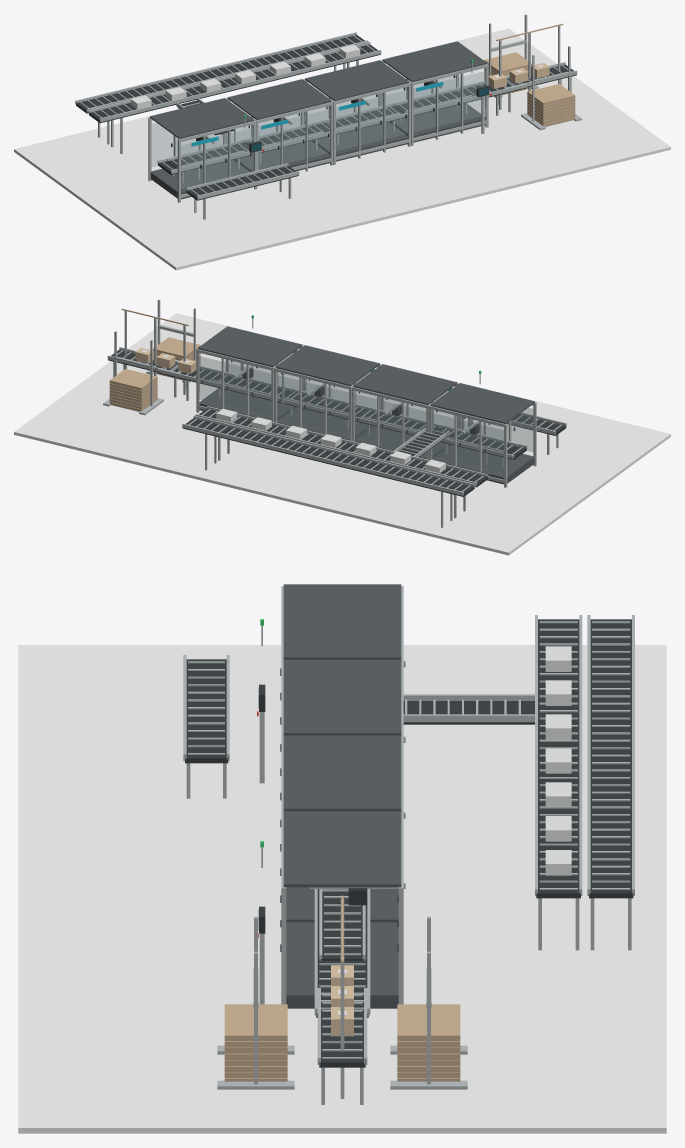
The picture shows the model from 3 angles, top to bottom: view 1: azimuth 30°, elevation 25°; view 2: azimuth 150°, elevation 25°; view 3: azimuth 270°, elevation 25°; orthographic projection. The views are drawn at different scales.
Parts seen in each view (by area): view 1: Factory floor, Genesys guarded process 2 roof, Genesys guarded process 3 roof, Genesys guarded process 4 roof, Genesys guarded process 1 roof, Empty tote return deck, Vary-Tote induction and buffer deck, Genesys guarded process 4 base, Genesys guarded process 3 base, Genesys guarded process 1 base, Genesys guarded process 2 base, Main process conveyor side rail (+25 smaller); view 2: Factory floor, Empty tote return deck, Genesys guarded process 2 roof, Genesys guarded process 4 roof, Genesys guarded process 1 roof, Genesys guarded process 3 roof, Genesys guarded process 1 base, Genesys guarded process 4 base, Genesys guarded process 3 base, Empty tote return side rail.001, Main process conveyor side rail.001, Vary-Tote induction and buffer deck (+25 smaller); view 3: Factory floor, Empty tote return deck, Genesys guarded process 4 roof, Genesys guarded process 3 roof, Genesys guarded process 1 roof, Genesys guarded process 2 roof, Vary-Tote induction and buffer deck, Genesys guarded process 4 base, Single-item induction deck, Fanfold stacked corrugate.007, Fanfold stacked corrugate.015, Vary-Tote transfer bed (+10 smaller).
Part boxes in pixels (left/top/right/bottom): Factory floor: left=14, top=28, right=670, bottom=270; Genesys guarded process 2 roof: left=227, top=79, right=331, bottom=119; Genesys guarded process 3 roof: left=305, top=60, right=409, bottom=101; Genesys guarded process 4 roof: left=382, top=41, right=486, bottom=82; Genesys guarded process 1 roof: left=150, top=98, right=254, bottom=138; Empty tote return deck: left=76, top=35, right=364, bottom=113; Vary-Tote induction and buffer deck: left=89, top=44, right=380, bottom=123; Genesys guarded process 4 base: left=389, top=104, right=485, bottom=142; Genesys guarded process 3 base: left=312, top=122, right=408, bottom=161; Genesys guarded process 1 base: left=150, top=160, right=249, bottom=199; Genesys guarded process 2 base: left=234, top=141, right=330, bottom=171; Main process conveyor side rail: left=170, top=83, right=527, bottom=173; Factory floor: left=14, top=313, right=670, bottom=555; Empty tote return deck: left=182, top=418, right=474, bottom=496; Genesys guarded process 2 roof: left=353, top=364, right=457, bottom=404; Genesys guarded process 4 roof: left=198, top=326, right=302, bottom=367; Genesys guarded process 1 roof: left=430, top=383, right=534, bottom=423; Genesys guarded process 3 roof: left=275, top=345, right=379, bottom=386; Genesys guarded process 1 base: left=432, top=445, right=534, bottom=484; Genesys guarded process 4 base: left=199, top=389, right=295, bottom=420; Genesys guarded process 3 base: left=277, top=407, right=372, bottom=440; Empty tote return side rail.001: left=182, top=423, right=463, bottom=495; Main process conveyor side rail.001: left=157, top=368, right=514, bottom=458; Vary-Tote induction and buffer deck: left=199, top=408, right=487, bottom=487; Factory floor: left=18, top=645, right=666, bottom=1133; Empty tote return deck: left=589, top=619, right=633, bottom=898; Genesys guarded process 4 roof: left=283, top=811, right=401, bottom=887; Genesys guarded process 3 roof: left=283, top=735, right=401, bottom=811; Genesys guarded process 1 roof: left=283, top=584, right=401, bottom=659; Genesys guarded process 2 roof: left=283, top=660, right=401, bottom=735; Vary-Tote induction and buffer deck: left=536, top=619, right=580, bottom=898; Genesys guarded process 4 base: left=286, top=922, right=398, bottom=1008; Single-item induction deck: left=185, top=659, right=228, bottom=763; Fanfold stacked corrugate.007: left=224, top=1004, right=287, bottom=1041; Fanfold stacked corrugate.015: left=397, top=1004, right=460, bottom=1041; Vary-Tote transfer bed: left=403, top=701, right=534, bottom=724.
Size of the model in its own units: 18.5 by 2.82 by 10.5.
